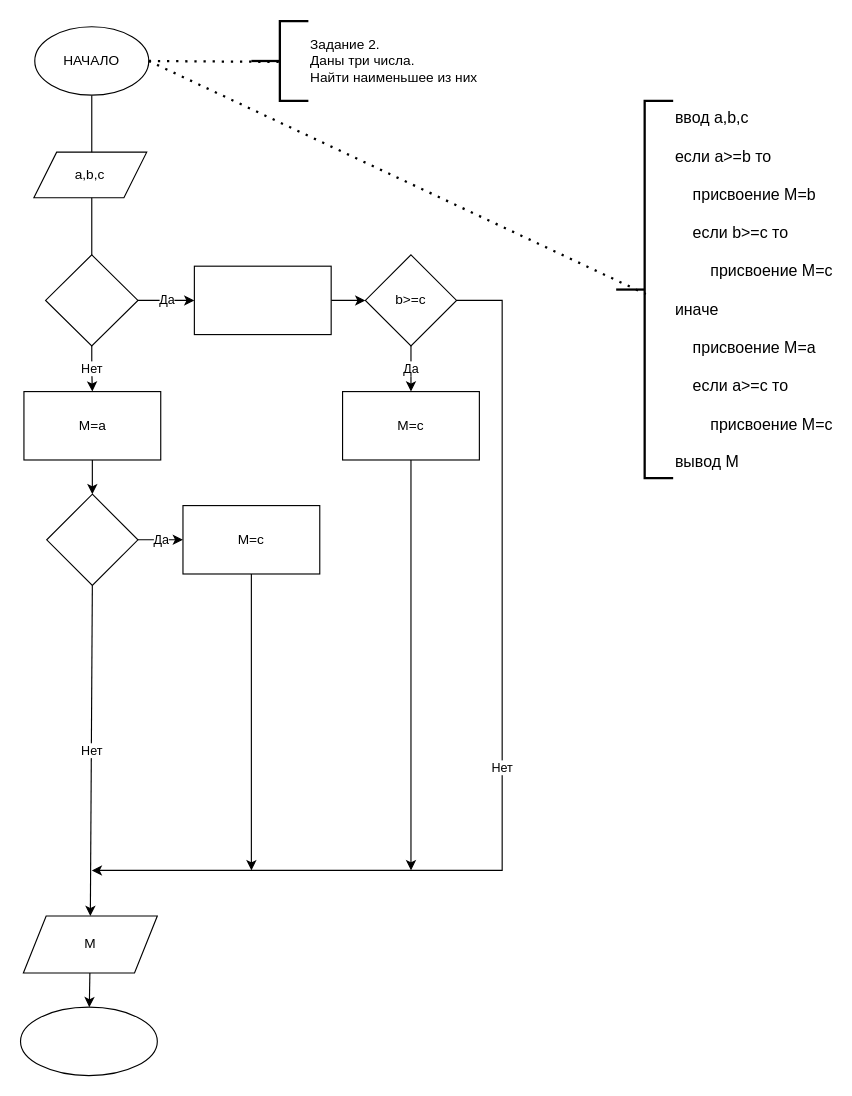
Image size: 852x1096. Some labels were removed from this diagram. Here are the shapes that lost their labels. From the top down, the box of each, then its label:
(44, 254, 138, 346): a>=b
(193, 265, 331, 335): M=b
(46, 493, 138, 585): a>=c
(19, 1006, 157, 1076): ВЫХОД
